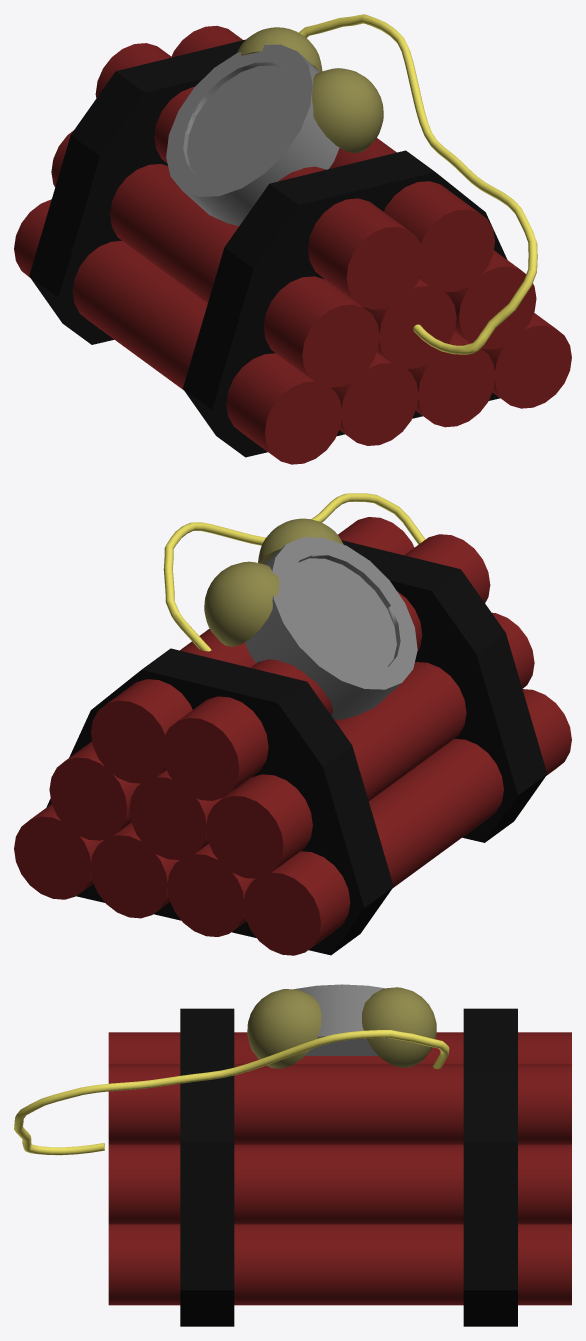
Rendered from 001BOMBuncut.fbx.
3 views of the same model, one above another, from view 1: azimuth 30°, elevation 25°; view 2: azimuth 150°, elevation 25°; view 3: azimuth 270°, elevation 25° (orthographic). The views are drawn at different scales.
Parts seen in each view (by area): view 1: pCylinder14, pCube2, pCylinder25, pCylinder20, pCube1, pCylinder22, pCylinder21, pCylinder17, nurbsToPoly1, pCylinder15, pCylinder16, pCylinder19 (+3 smaller); view 2: pCube1, pCylinder14, pCylinder25, pCylinder20, pCube2, pCylinder22, pCylinder21, pCylinder18, pCylinder16, pCylinder17, pCylinder15, pCylinder19 (+3 smaller); view 3: pCylinder17, pCylinder18, pCylinder21, pCube1, pCube2, pCylinder22, nurbsToPoly1, pSphere7, pSphere6, pCylinder25.
Part boxes in pixels (bbox=[...]): pCylinder14: bbox=[14, 199, 342, 464]; pCube2: bbox=[183, 150, 507, 457]; pCylinder25: bbox=[166, 44, 339, 225]; pCylinder20: bbox=[51, 130, 379, 387]; pCube1: bbox=[29, 39, 245, 344]; pCylinder22: bbox=[95, 43, 423, 309]; pCylinder21: bbox=[171, 25, 494, 292]; pCylinder17: bbox=[481, 313, 571, 408]; nurbsToPoly1: bbox=[298, 14, 537, 354]; pCylinder15: bbox=[331, 352, 418, 445]; pCylinder16: bbox=[407, 331, 495, 427]; pCylinder19: bbox=[363, 279, 456, 368]; pCube1: bbox=[46, 648, 393, 955]; pCylinder14: bbox=[243, 689, 571, 955]; pCylinder25: bbox=[245, 537, 417, 719]; pCylinder20: bbox=[206, 612, 534, 878]; pCube2: bbox=[341, 540, 547, 842]; pCylinder22: bbox=[162, 534, 490, 800]; pCylinder21: bbox=[91, 517, 414, 783]; pCylinder18: bbox=[49, 741, 140, 840]; pCylinder16: bbox=[90, 823, 179, 918]; pCylinder17: bbox=[14, 804, 104, 899]; pCylinder15: bbox=[167, 844, 255, 936]; pCylinder19: bbox=[129, 770, 222, 859]; pCylinder17: bbox=[108, 1224, 571, 1305]; pCylinder18: bbox=[108, 1144, 571, 1224]; pCylinder21: bbox=[108, 1064, 571, 1144]; pCube1: bbox=[463, 1008, 517, 1326]; pCube2: bbox=[180, 1008, 234, 1326]; pCylinder22: bbox=[108, 1032, 571, 1063]; nurbsToPoly1: bbox=[14, 1030, 449, 1155]; pSphere7: bbox=[247, 989, 321, 1068]; pSphere6: bbox=[362, 987, 436, 1067]; pCylinder25: bbox=[294, 984, 384, 1055].
Bounding box in the file's own units: 8.08 × 7.3 × 12.86.
